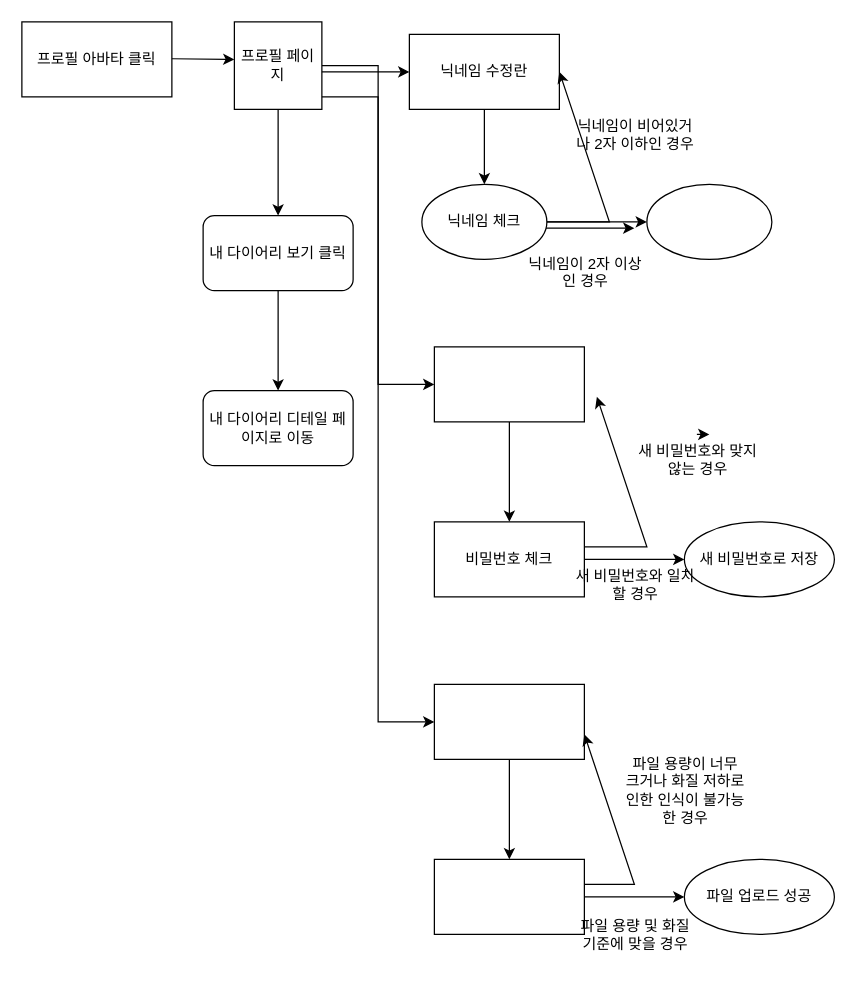
Image size: 856x994. Some labels were removed from this diagram. Each missing label, with the box of its shape:
비밀번호 수정란: (433, 346, 584, 422)
새로운 닉네임 저장: (646, 183, 772, 259)
파일 업로드: (433, 683, 584, 759)
파일 체크: (433, 858, 584, 934)
